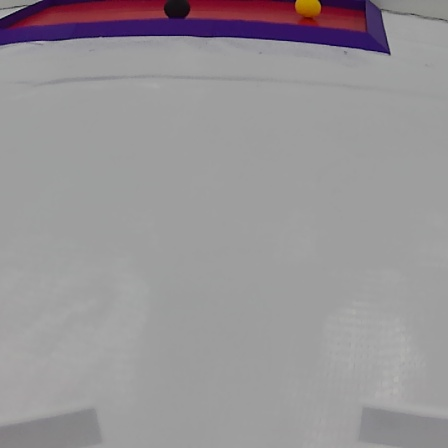black: (163, 0, 195, 18)
red_aim: (0, 0, 394, 56)
yellow: (295, 0, 327, 22)
